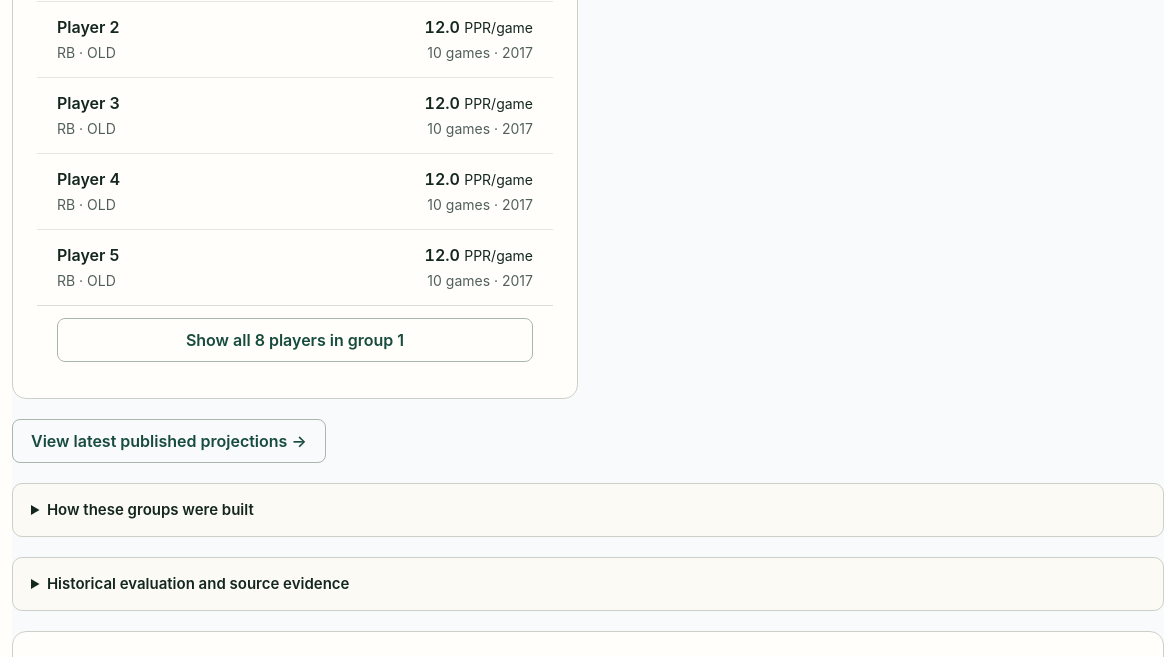
it: historical tier presentation › shows a bounded group preview with explicit counts and can find a player beyond it
The image size is (1164, 657).
(page scrolled)
Check: the link "Player 7" is not shown
Click the button "Show all 8 players in group 1" at (295, 340), box [57,318,533,362]
(page scrolled)
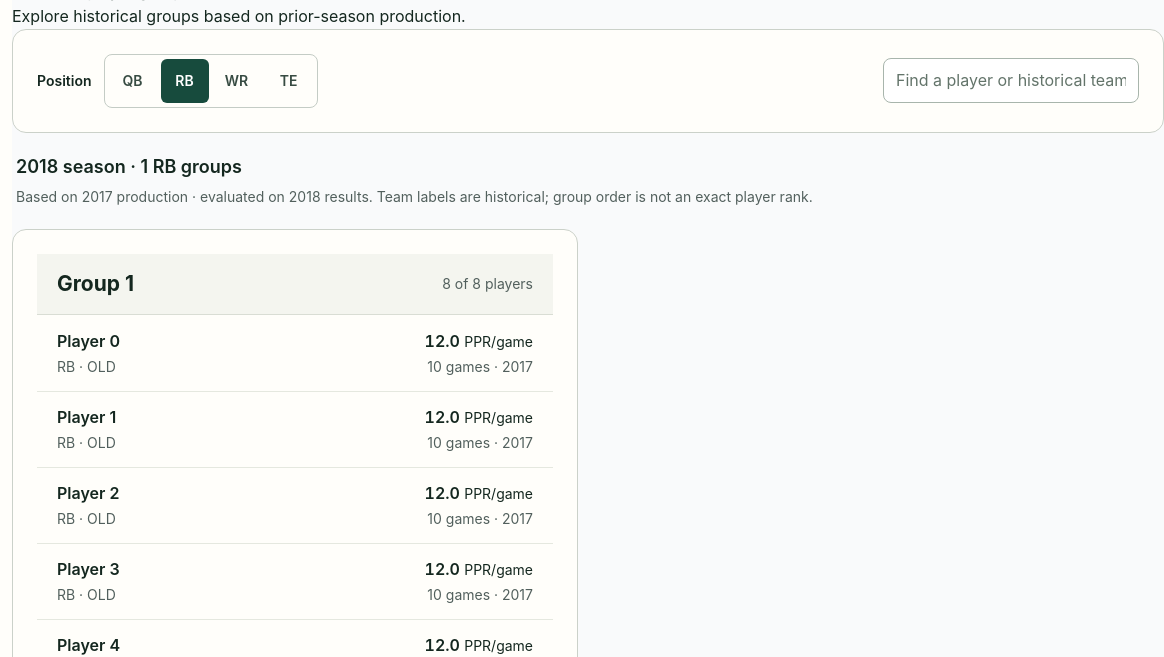
Type "Player 7" into the field named "Search historical players" at (1011, 81), box [883,58,1139,103]
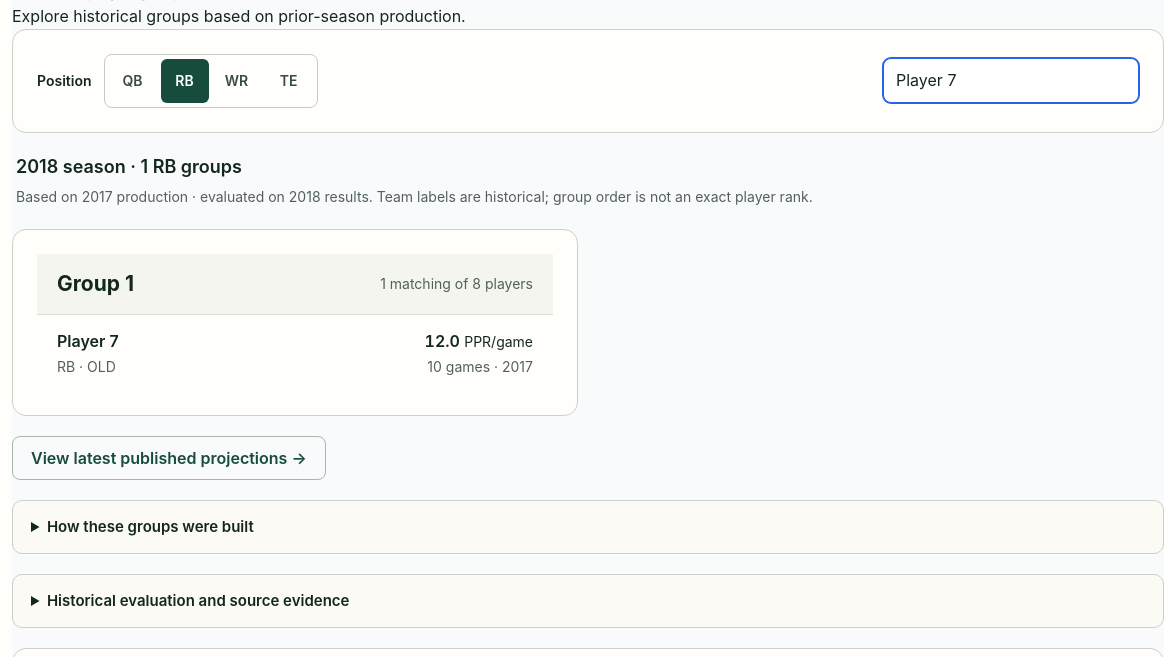
Check: the text "1 matching of 8 players" is shown, box [380,274,533,294]
Check: the link "Player 0" is gone
